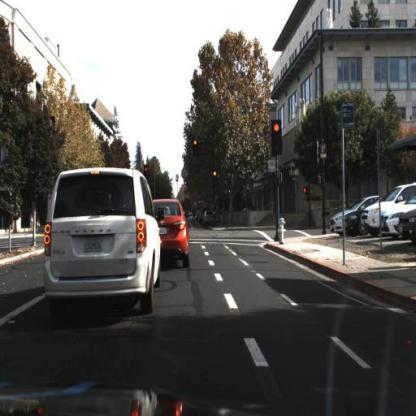car: (37, 167, 166, 328), (162, 197, 196, 276), (358, 188, 392, 238), (380, 196, 399, 242), (203, 210, 216, 228)
trafficLight-Red: (270, 116, 284, 157), (191, 136, 201, 162), (212, 168, 220, 194), (193, 138, 198, 158)
trafficLight-RedLeft: (142, 163, 151, 180), (144, 164, 150, 181)
